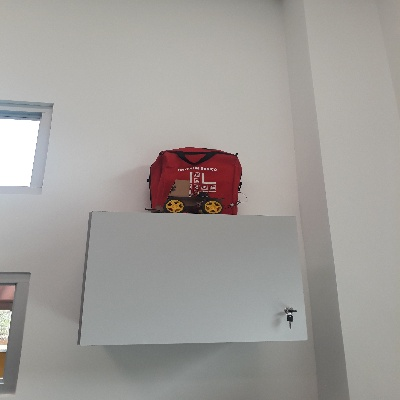Robot: (145, 178, 221, 214)
